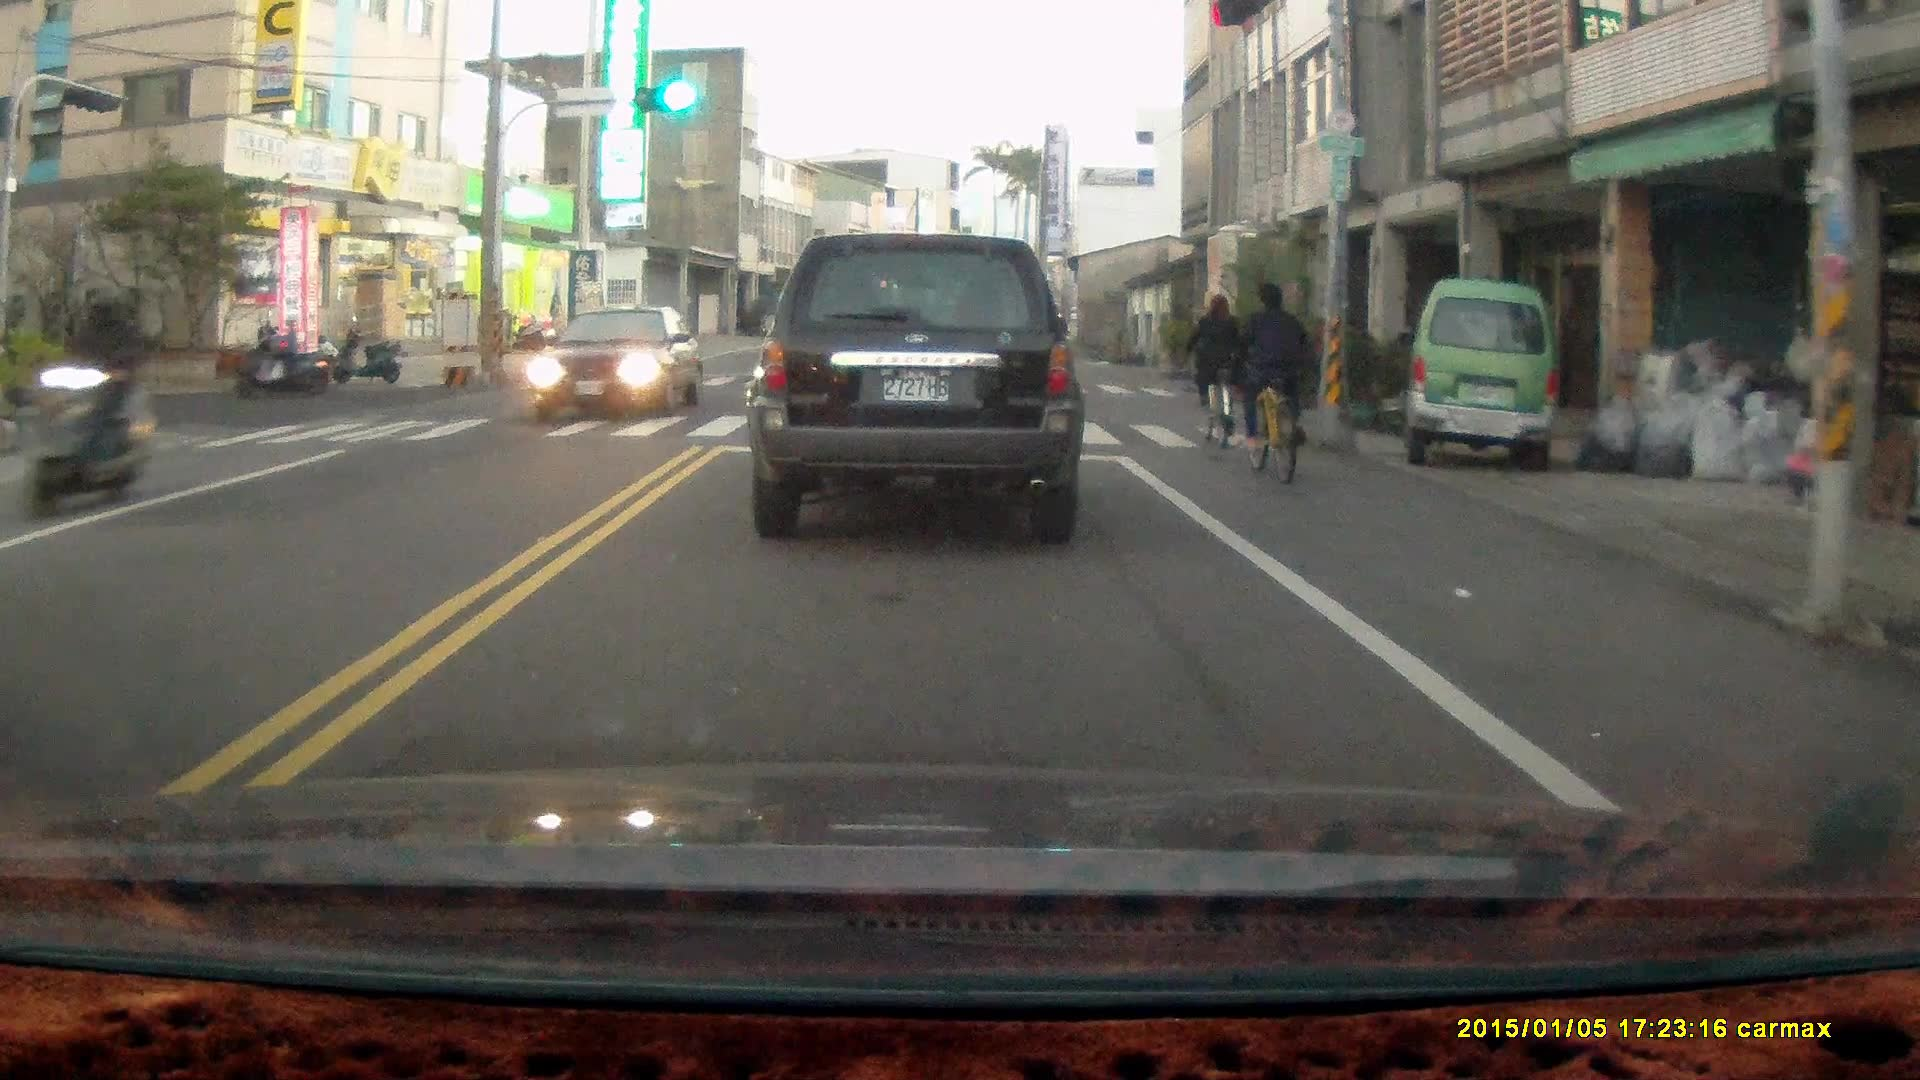rider: (28, 278, 155, 525), (1228, 276, 1311, 483), (1180, 291, 1241, 445), (232, 308, 324, 396)
vehicle: (745, 229, 1084, 548), (1404, 280, 1562, 478), (529, 302, 708, 423)
